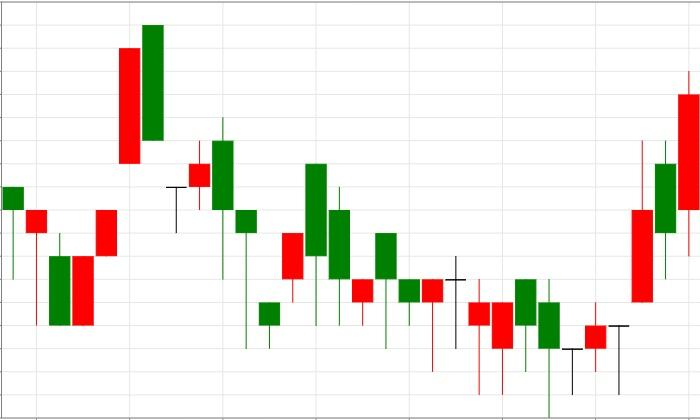hammer_rise: (142, 24, 257, 348)
three_white_soldiers_rise: (2, 47, 142, 326)
